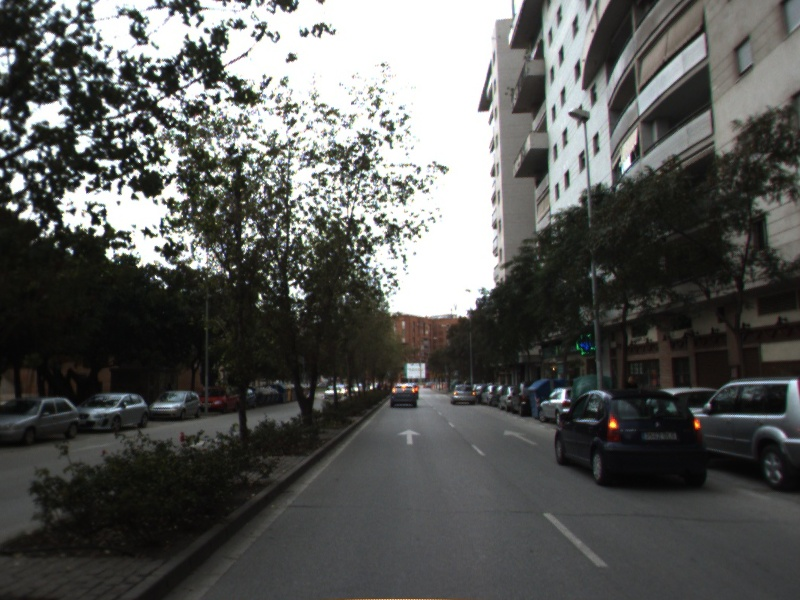STRAIGHT: (501, 427, 541, 447), (396, 427, 424, 447)
